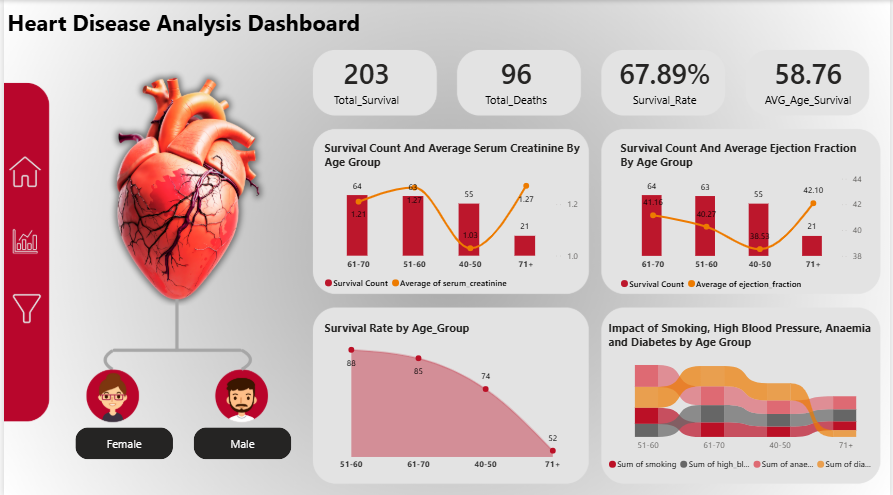

The dashboard page shown, as its layout file describes it:
{"tool":"powerbi","page":{"name":"Home","canvas":[1280,720],"ordinal":0},"visuals":[{"type":"textbox","box":[0,4.3,587,62.2],"z":0},{"type":"card","fields":{"Values":["heart_Disease_clinical_records_.Survival_Rate"]},"box":[863.5,62.6,184.1,107.3],"z":1000},{"type":"card","fields":{"Values":["heart_Disease_clinical_records_.AVG_Age_Survival"]},"box":[1078,71.5,168,89.4],"z":2000},{"type":"card","fields":{"Values":["heart_Disease_clinical_records_.Total_Survival"]},"box":[436.2,66.1,175.2,100.1],"z":3000},{"type":"card","fields":{"Values":["heart_Disease_clinical_records_.Total_Deaths"]},"box":[663.2,66.1,153.7,100.1],"z":4000},{"type":"lineClusteredColumnComboChart","title":"Survival Count And Average Serum Creatinine By Age Group","fields":{"Y":["CountNonNull(heart_Disease_clinical_records_.DEATH_EVENT)"],"Y2":["Avg(heart_Disease_clinical_records_.serum_creatinine)"],"Category":["heart_Disease_clinical_records_.Age_Group"]},"box":[457.7,202,379,225.3],"z":5000},{"type":"lineClusteredColumnComboChart","title":"Survival Count And Average Ejection Fraction By Age Group","fields":{"Category":["heart_Disease_clinical_records_.Age_Group"],"Y":["CountNonNull(heart_Disease_clinical_records_.DEATH_EVENT)"],"Y2":["Avg(heart_Disease_clinical_records_.ejection_fraction)"]},"box":[886.3,202.4,360,225.5],"z":6000},{"type":"lineChart","fields":{"Category":["heart_Disease_clinical_records_.Age_Group"],"Y":["CountNonNull(heart_Disease_clinical_records_.DEATH_EVENT)"]},"box":[457.7,463,379,227],"z":7000},{"type":"ribbonChart","title":"Impact of Smoking, High Blood Pressure,  Anaemia and Diabetes by Age Group","fields":{"Category":["heart_Disease_clinical_records_.Age_Group"],"Y":["Sum(heart_Disease_clinical_records_.smoking)","Sum(heart_Disease_clinical_records_.high_blood_pressure)","Sum(heart_Disease_clinical_records_.anaemia)","Sum(heart_Disease_clinical_records_.diabetes)"]},"box":[868.8,463,411.2,227],"z":8000},{"type":"advancedSlicerVisual","fields":{"Values":["heart_Disease_clinical_records_.Gender"]},"box":[98.3,613,323.9,56.4],"z":9000}]}

Visuals, with their boxes in screenshot pixels (x1, y1, x2, y2), scaled from the page's 1280x720 canvas onto the 893x495 screenshot:
textbox: 0 3 410 46
card - heart_Disease_clinical_records_.Survival_Rate: 602 43 731 117
card - heart_Disease_clinical_records_.AVG_Age_Survival: 752 49 869 111
card - heart_Disease_clinical_records_.Total_Survival: 304 45 427 114
card - heart_Disease_clinical_records_.Total_Deaths: 463 45 570 114
"Survival Count And Average Serum Creatinine By Age Group" lineClusteredColumnComboChart: 319 139 584 294
"Survival Count And Average Ejection Fraction By Age Group" lineClusteredColumnComboChart: 618 139 869 294
lineChart - heart_Disease_clinical_records_.Age_Group x CountNonNull(heart_Disease_clinical_records_.DEATH_EVENT): 319 318 584 474
"Impact of Smoking, High Blood Pressure,  Anaemia and Diabetes by Age Group" ribbonChart: 606 318 892 474
advancedSlicerVisual - heart_Disease_clinical_records_.Gender: 69 421 295 460
